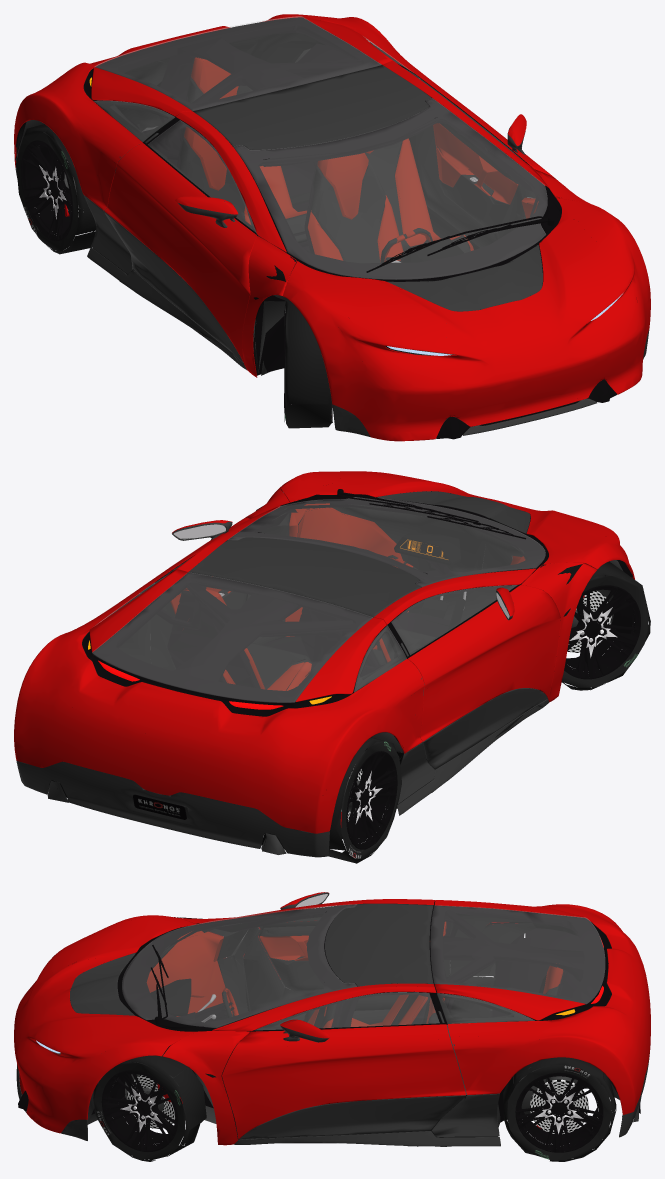
Rendered from concept-authored.glb.
3 renders of one model, top to bottom at view 1: azimuth 30°, elevation 25°; view 2: azimuth 150°, elevation 25°; view 3: azimuth 270°, elevation 25°, orthographic. The views are drawn at different scales.
Parts seen in each view (by area): view 1: BodyHood, BodyWindshield, BodyRearwindow, BodyDoorRColor1, BodyRearPanelsColor1, BodyRoofPanel, BodyWindshieldGasket, InteriorSeatsColor1, InteriorSeatsColor2, BodyPillars, InteriorPillar, InteriorRearHatch (+22 smaller); view 2: BodyRearPanelsColor1, BodyRearwindow, BodyWindshield, BodyDoorRColor1, BodyPanelsColor2, BodyRoofPanel, BodyHood, InteriorRearHatch, BodyPillars, InteriorPillar, BodyWindshieldGasket, InteriorDashMid (+22 smaller); view 3: BodyRearPanelsColor1, BodyWindshield, BodyDoorLColor1, BodyHood, BodyRearwindow, BodyRoofPanel, BodyPillars, BodyWindshieldGasket, BodyDoorLColor2, BodyPanelsColor2, InteriorRearHatch, WheelFrontL (+24 smaller).
Boxes of the visible parts, x1,y1,x2,y2 form: BodyHood: [283, 198, 650, 441]; BodyWindshield: [233, 98, 547, 279]; BodyRearwindow: [95, 16, 381, 110]; BodyDoorRColor1: [104, 142, 257, 361]; BodyRearPanelsColor1: [14, 14, 428, 210]; BodyRoofPanel: [193, 65, 430, 150]; BodyWindshieldGasket: [234, 99, 561, 281]; InteriorSeatsColor1: [184, 57, 473, 261]; InteriorSeatsColor2: [180, 77, 470, 263]; BodyPillars: [176, 61, 596, 377]; InteriorPillar: [158, 37, 433, 167]; InteriorRearHatch: [92, 17, 381, 117]; BodyRearPanelsColor1: [14, 569, 424, 833]; BodyRearwindow: [92, 572, 372, 702]; BodyWindshield: [228, 497, 545, 586]; BodyDoorRColor1: [408, 585, 560, 741]; BodyPanelsColor2: [16, 699, 549, 857]; BodyRoofPanel: [188, 537, 421, 617]; BodyHood: [277, 471, 634, 579]; InteriorRearHatch: [93, 573, 385, 707]; BodyPillars: [174, 489, 596, 702]; InteriorPillar: [173, 566, 415, 681]; BodyWindshieldGasket: [229, 494, 548, 587]; InteriorDashMid: [330, 503, 524, 622]; BodyRearPanelsColor1: [434, 900, 650, 1114]; BodyWindshield: [122, 904, 356, 1027]; BodyDoorLColor1: [222, 1024, 465, 1139]; BodyHood: [14, 915, 196, 1133]; BodyRearwindow: [430, 905, 604, 1003]; BodyRoofPanel: [325, 903, 433, 986]; BodyPillars: [162, 899, 436, 1145]; BodyWindshieldGasket: [117, 905, 356, 1031]; BodyDoorLColor2: [239, 1095, 465, 1139]; BodyPanelsColor2: [16, 1009, 650, 1146]; InteriorRearHatch: [430, 905, 604, 1020]; WheelFrontL: [93, 1054, 206, 1161].
Size of the model in its own units: 2.55 by 1.17 by 4.36.
23 materials, 6 textured.
